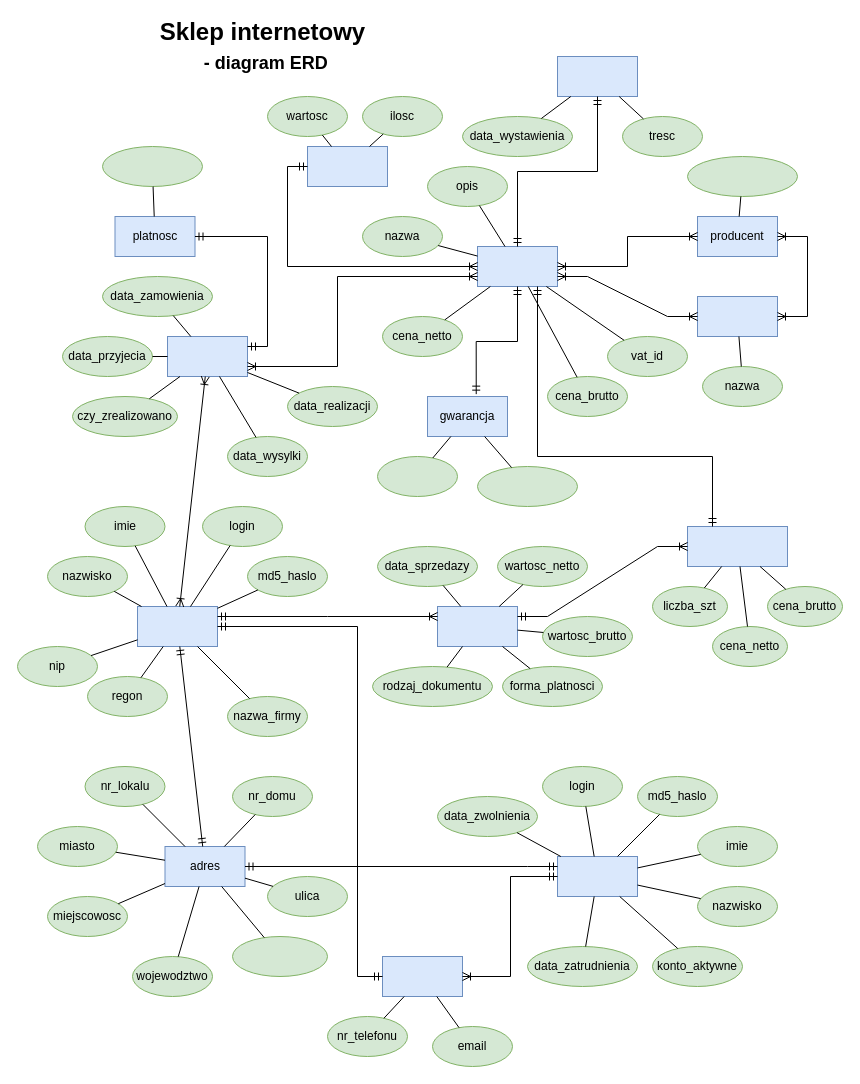
This 860x1084 diagram has some shape labels left out. Here are the shapes that lost their labels. From the top down, the centre of each, then its label:
At [597,76]: "opinia".
At [152,166]: "rodzaj_platnosci".
At [347,166]: "koszyk".
At [742,176]: "nazwa_producenta".
At [517,266]: "produkt".
At [737,316]: "kategoria".
At [207,356]: "zamowienie".
At [417,476]: "data_kupna".
At [527,486]: "data_gwarancji".
At [737,546]: "pozycja_faktura".
At [177,626]: "klient".
At [477,626]: "faktura".
At [597,876]: "pracownik".
At [280,956]: "kod_pocztowy".
At [422,976]: "kontakt".
